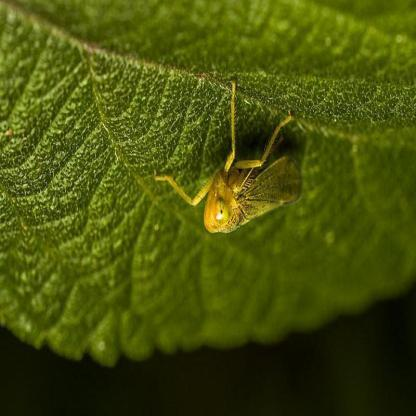green-leafhopper: (152, 74, 303, 235)
